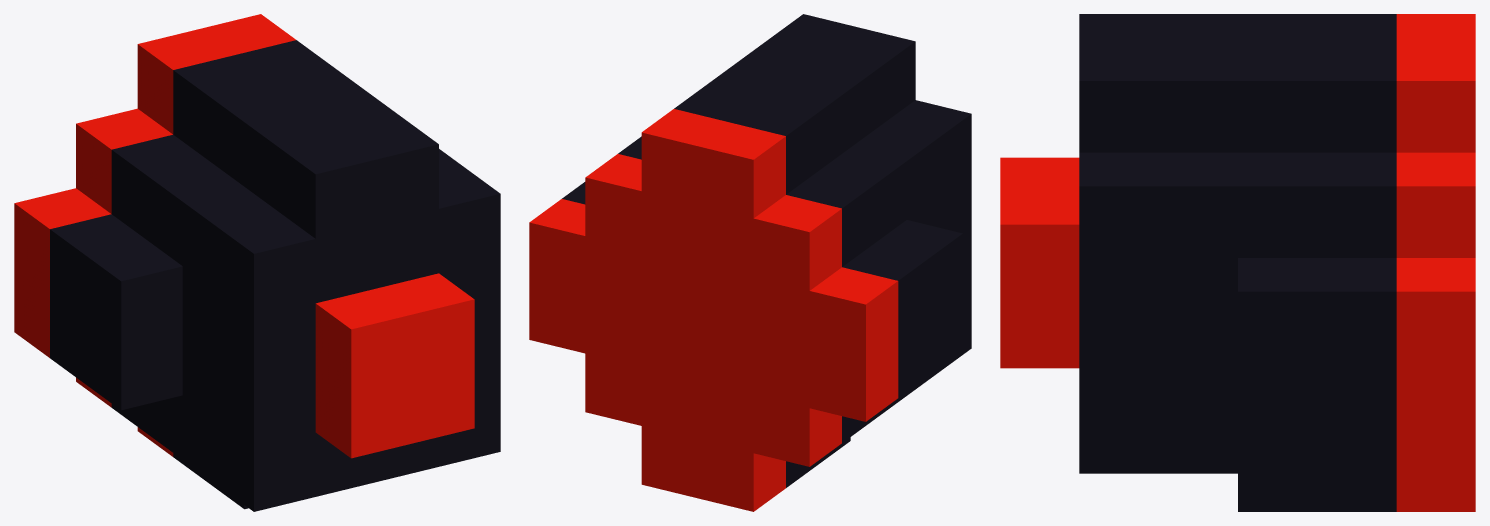
Rendered from Bullet_Enemy.obj.
The picture shows the model from 3 angles, left to right: view 1: azimuth 30°, elevation 25°; view 2: azimuth 150°, elevation 25°; view 3: azimuth 270°, elevation 25°; orthographic projection. The views are drawn at different scales.
Size of the model in its own units: 0.6 by 0.6 by 0.6.
1 material, 1 textured.
